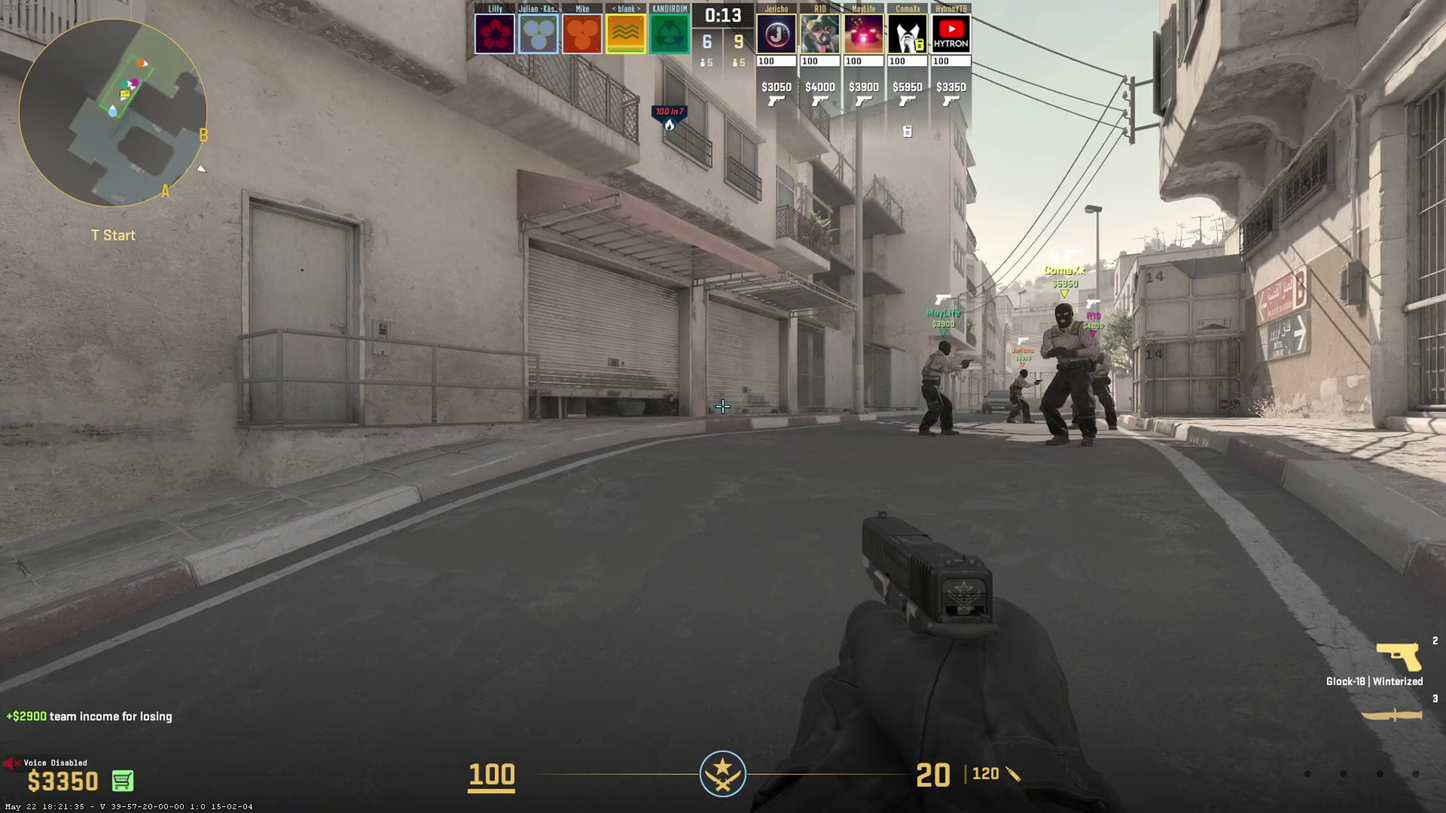Terrorist: (1042, 307, 1088, 442), (922, 344, 958, 437), (1088, 335, 1115, 432), (1006, 368, 1030, 424)
